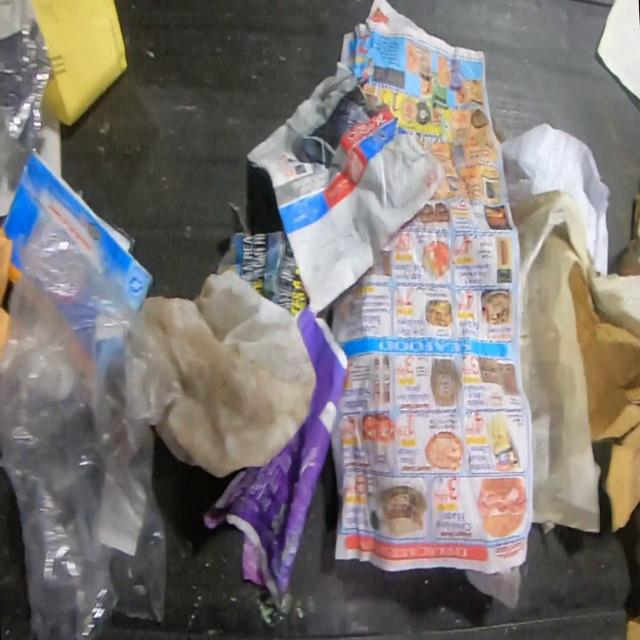cardboard: (568, 259, 640, 534)
soft_plastic: (0, 211, 180, 639), (138, 267, 318, 476), (0, 14, 56, 151)
